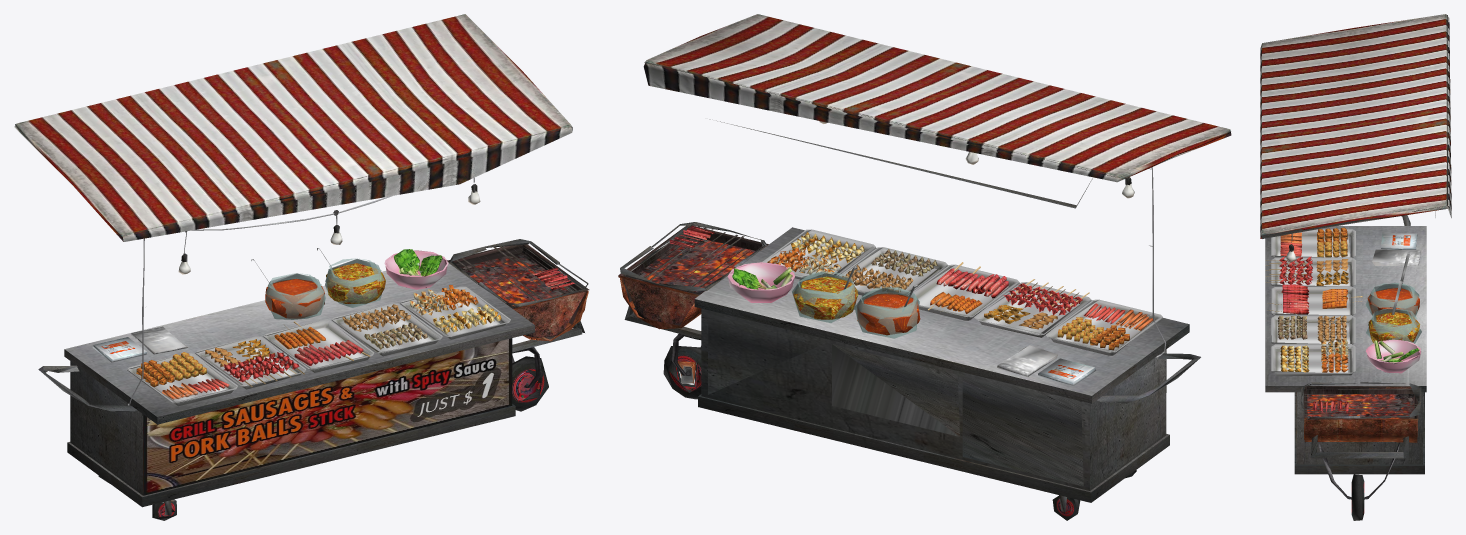
File: xe-day-2.glb
3 views of the same model, side by side, from view 1: azimuth 30°, elevation 25°; view 2: azimuth 150°, elevation 25°; view 3: azimuth 270°, elevation 25° (orthographic). The views are drawn at different scales.
Parts seen in each view (by area): view 1: cart_Material #362_0, grill_Material #364_0, cart_decor_Material #361_0, tray01_Material #366_0, tray05_Material #370_0, tray03_Material #368_0, tray02_Material #367_0, tray04_Material #369_0, blow_glass_01 - Default_0, light_Material #371_0; view 2: cart_Material #362_0, grill_Material #364_0, cart_decor_Material #361_0, tray04_Material #369_0, tray05_Material #370_0, tray03_Material #368_0, tray01_Material #366_0, tray02_Material #367_0, blow_glass_01 - Default_0, light_Material #371_0; view 3: cart_Material #362_0, grill_Material #364_0, cart_decor_Material #361_0, tray01_Material #366_0, tray03_Material #368_0, tray04_Material #369_0, tray02_Material #367_0, tray05_Material #370_0, blow_glass_01 - Default_0.
Boxes of the visible parts, left/top/right/bottom form: cart_Material #362_0: left=14, top=14, right=572, bottom=507; grill_Material #364_0: left=38, top=239, right=589, bottom=520; cart_decor_Material #361_0: left=92, top=248, right=448, bottom=362; tray01_Material #366_0: left=400, top=285, right=510, bottom=339; tray05_Material #370_0: left=127, top=352, right=237, bottom=406; tray03_Material #368_0: left=263, top=319, right=374, bottom=372; tray02_Material #367_0: left=331, top=303, right=442, bottom=356; tray04_Material #369_0: left=195, top=336, right=306, bottom=389; blow_glass_01 - Default_0: left=265, top=258, right=384, bottom=319; light_Material #371_0: left=128, top=177, right=480, bottom=405; cart_Material #362_0: left=643, top=14, right=1231, bottom=502; grill_Material #364_0: left=618, top=222, right=1200, bottom=520; cart_decor_Material #361_0: left=727, top=262, right=1096, bottom=385; tray04_Material #369_0: left=974, top=279, right=1091, bottom=337; tray05_Material #370_0: left=1046, top=299, right=1162, bottom=355; tray03_Material #368_0: left=908, top=262, right=1019, bottom=320; tray01_Material #366_0: left=762, top=229, right=875, bottom=279; tray02_Material #367_0: left=839, top=247, right=947, bottom=295; blow_glass_01 - Default_0: left=792, top=272, right=919, bottom=338; light_Material #371_0: left=819, top=121, right=1165, bottom=358; cart_Material #362_0: left=1260, top=14, right=1451, bottom=474; grill_Material #364_0: left=1301, top=215, right=1421, bottom=520; cart_decor_Material #361_0: left=1365, top=233, right=1421, bottom=373; tray01_Material #366_0: left=1271, top=339, right=1355, bottom=376; tray03_Material #368_0: left=1268, top=284, right=1362, bottom=315; tray04_Material #369_0: left=1265, top=256, right=1355, bottom=286; tray02_Material #367_0: left=1271, top=315, right=1355, bottom=344; tray05_Material #370_0: left=1271, top=227, right=1355, bottom=257; blow_glass_01 - Default_0: left=1365, top=283, right=1421, bottom=343.
Size of the model in its own units: 0.9774 by 0.6761 by 0.3744.
Materials: 10 (9 with a texture image).
